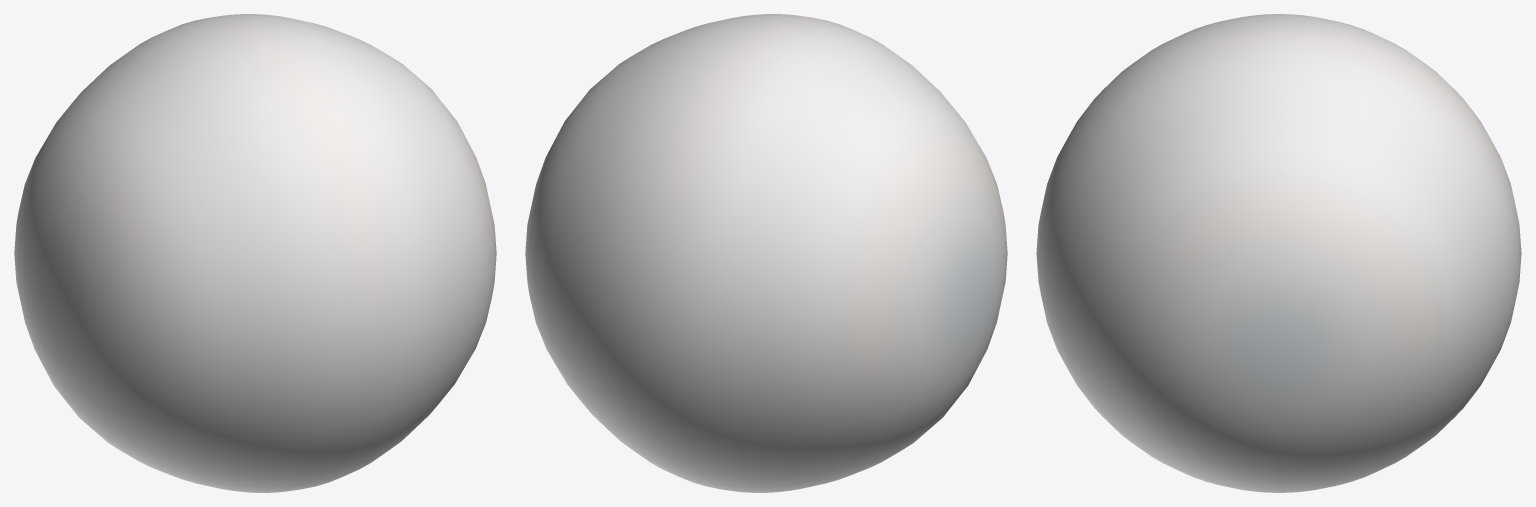
File: modeP6.glb
The picture shows the model from 3 angles, left to right: view 1: azimuth 30°, elevation 25°; view 2: azimuth 150°, elevation 25°; view 3: azimuth 270°, elevation 25°; orthographic projection.
Visible parts, largest first — view 1: frame000; view 2: frame000; view 3: frame000.
Boxes of the visible parts, x1,y1,x2,y2 form: frame000: (14, 14, 496, 492); frame000: (525, 14, 1007, 492); frame000: (1036, 14, 1521, 492).
Size of what is drawn, in the model's own units: 0.1175 by 0.1207 by 0.1208.
Materials: 1 (1 with a texture image).
